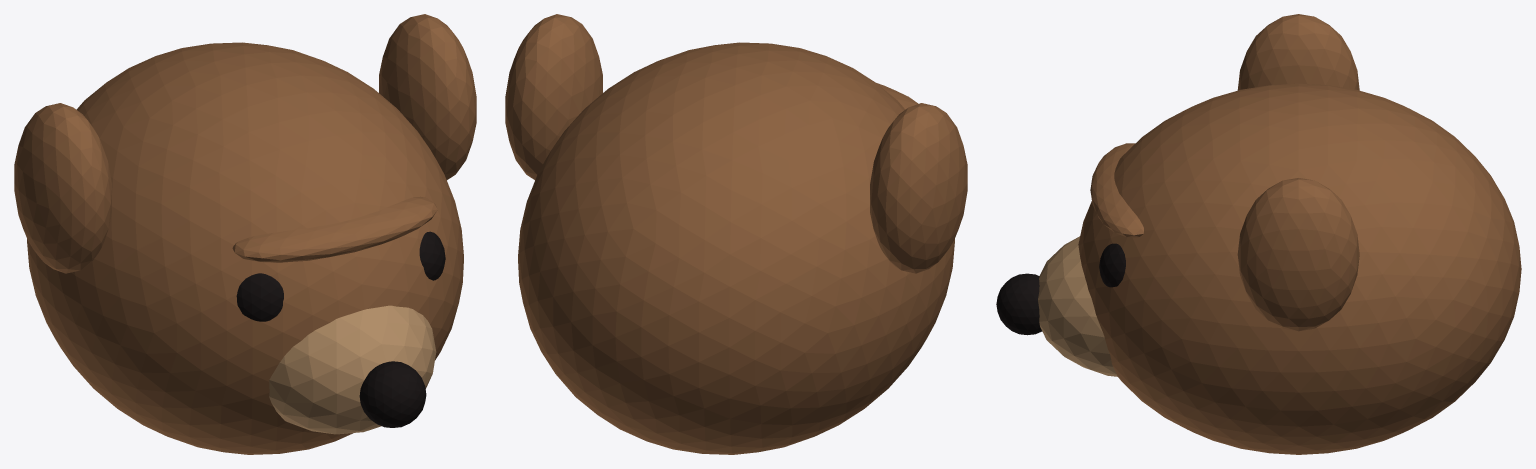
The model's file is monkey.obj.
3 views of the same model, side by side, from view 1: azimuth 30°, elevation 25°; view 2: azimuth 150°, elevation 25°; view 3: azimuth 270°, elevation 25° (orthographic). The views are drawn at different scales.
Bounding box in the file's own units: 121 × 97.15 × 137.
